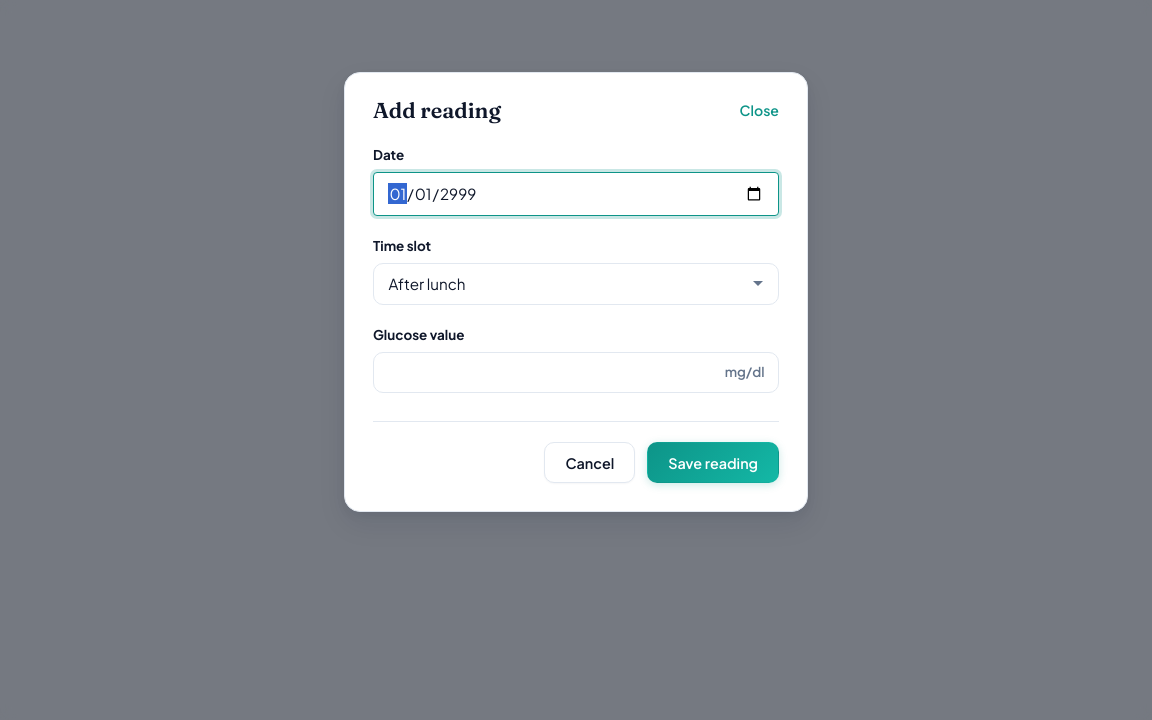
Test case: ReadingForm validation › rejects a date in the future
Type "100" into the number field labelled "Glucose value" at [576, 372], box [373,352,779,393]
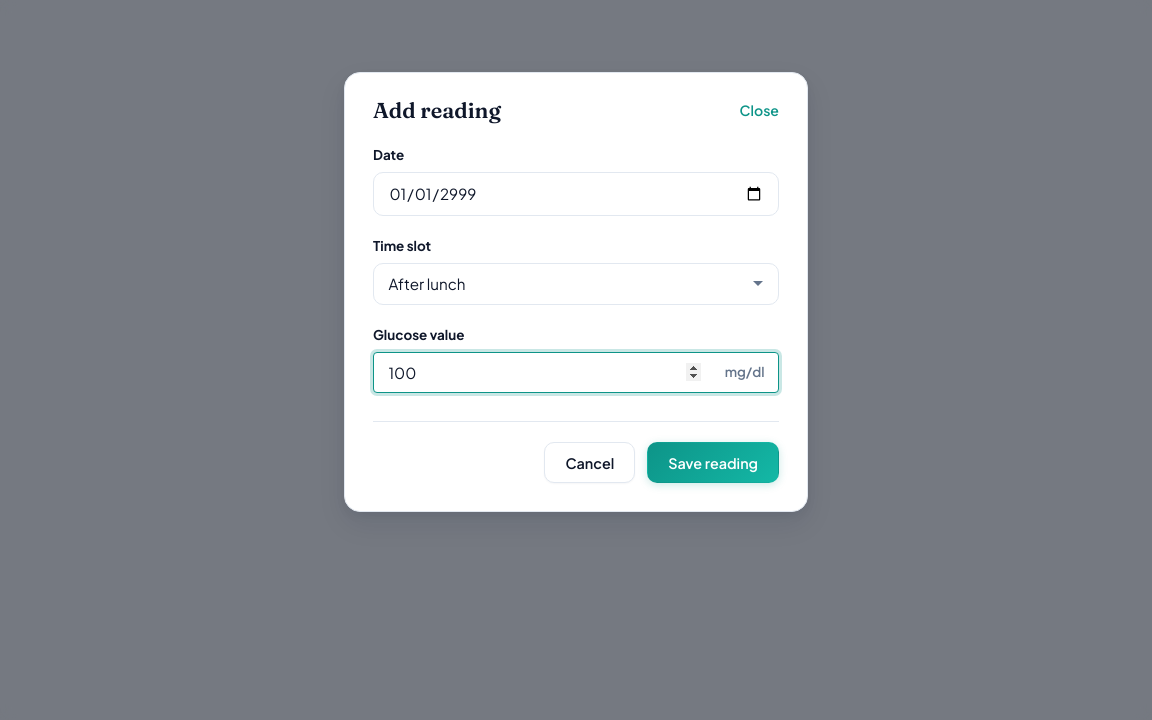
Click the button "Save reading" at [713, 463], box [647,442,779,483]
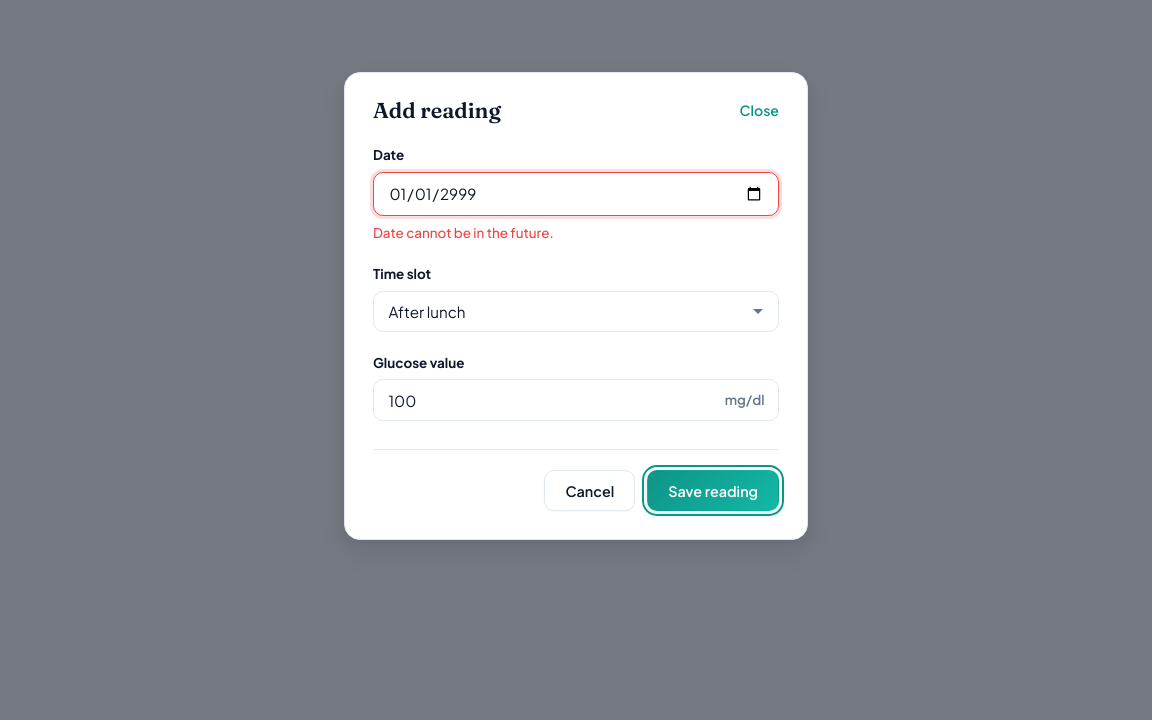
Expected: the text "Date cannot be in the future." is shown, [373,224,554,241]
